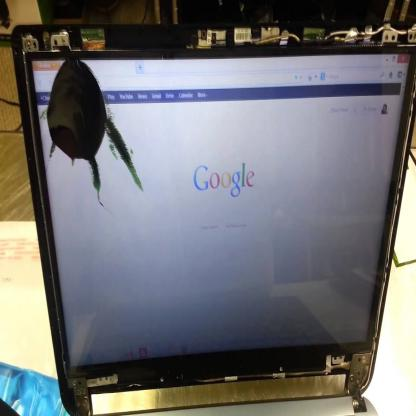crack: (43, 59, 145, 211)
spot: (44, 60, 108, 160)
